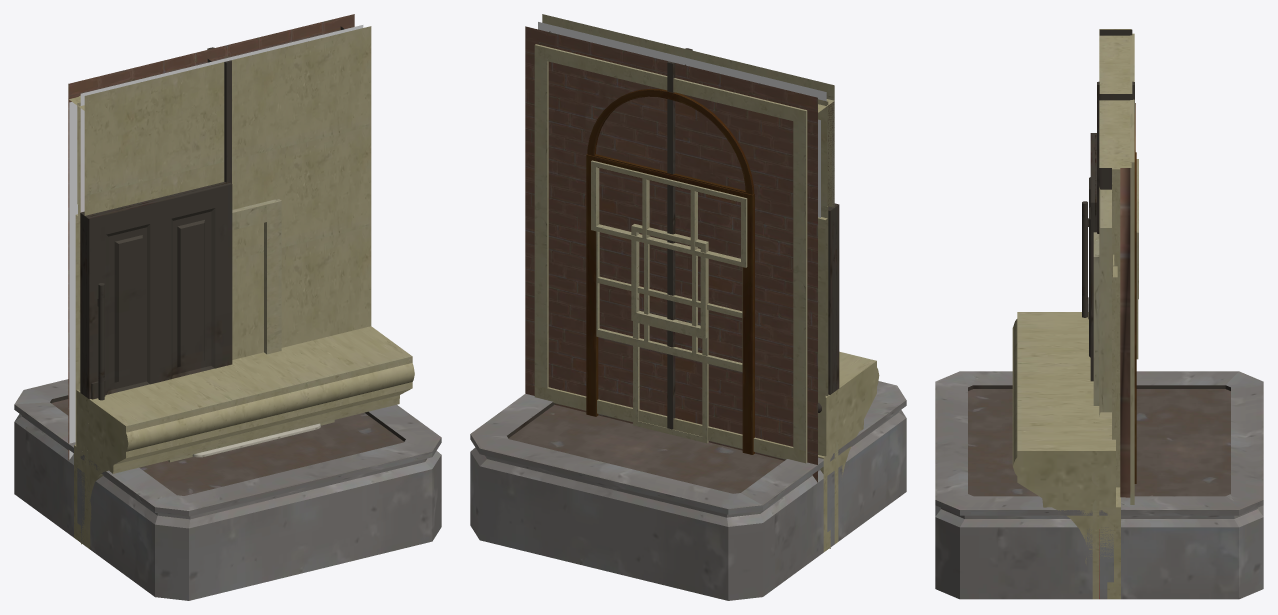
The model's file is city_kit.glb.
3 renders of one model, left to right at view 1: azimuth 30°, elevation 25°; view 2: azimuth 150°, elevation 25°; view 3: azimuth 270°, elevation 25°, orthographic. The views are drawn at different scales.
Visible parts, largest first — view 1: Trim_FirstFloor_Wall, Prop_Planter_Single, Cornice_Trim_Center, Door_1, Brick_Window_Square_Single, Metal_FirstFloor_Window, Trim_Window, Door_2, Trim_FirstFloor_Window_001, DoorFrame_Trim, Prop_ACUnit; view 2: Trim_Window, Prop_Planter_Single, Trim_FirstFloor_Window_001, Trim_FirstFloor_Wall, DoorFrame_Trim, Metal_FirstFloor_Window, Brick_Window_Square_Single, Cornice_Trim_Center, Door_1, Door_2, Trim_Plain_3; view 3: Prop_Planter_Single, Cornice_Trim_Center, Trim_FirstFloor_Window_001, Trim_Window, DoorFrame_Trim, Brick_Window_Square_Single, Metal_FirstFloor_Window, Door_1, Trim_FirstFloor_Wall, Door_2.
Boxes of the visible parts, box(x1,y1,x2,y2) form: Trim_FirstFloor_Wall: box(84, 26, 371, 547); Prop_Planter_Single: box(14, 379, 441, 600); Cornice_Trim_Center: box(76, 326, 414, 549); Door_1: box(80, 182, 232, 399); Brick_Window_Square_Single: box(68, 14, 354, 460); Metal_FirstFloor_Window: box(80, 25, 363, 212); Trim_Window: box(70, 113, 77, 458); Door_2: box(82, 182, 229, 400); Trim_FirstFloor_Window_001: box(69, 95, 84, 544); DoorFrame_Trim: box(74, 103, 82, 542); Prop_ACUnit: box(192, 423, 320, 457); Trim_Window: box(525, 26, 817, 482); Prop_Planter_Single: box(470, 381, 906, 600); Trim_FirstFloor_Window_001: box(534, 14, 834, 548); Trim_FirstFloor_Wall: box(599, 168, 838, 544); DoorFrame_Trim: box(586, 88, 832, 552); Metal_FirstFloor_Window: box(538, 22, 826, 429); Brick_Window_Square_Single: box(631, 119, 820, 443); Cornice_Trim_Center: box(825, 351, 879, 475); Door_1: box(818, 203, 839, 412); Door_2: box(828, 205, 836, 392); Trim_Plain_3: box(828, 101, 834, 207); Prop_Planter_Single: box(935, 371, 1263, 599); Cornice_Trim_Center: box(1012, 312, 1115, 564); Trim_FirstFloor_Window_001: box(1099, 29, 1134, 504); Trim_Window: box(1099, 159, 1138, 416); DoorFrame_Trim: box(1099, 29, 1136, 599); Brick_Window_Square_Single: box(1093, 232, 1138, 405); Metal_FirstFloor_Window: box(1097, 29, 1134, 598); Door_1: box(1088, 133, 1094, 381); Trim_FirstFloor_Wall: box(1091, 469, 1099, 599); Door_2: box(1082, 133, 1096, 317).
Size of the model in its own units: 2 by 3.01 by 2.
Materials: 7 (5 with a texture image).
